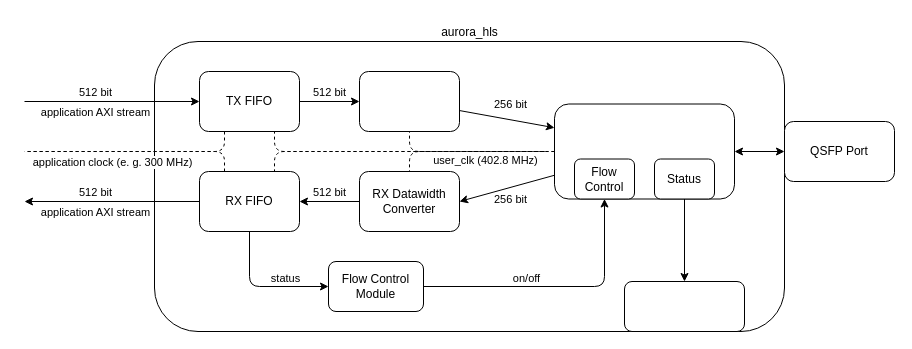
Image size: 912x349. Some labels were removed from this diagram. Each missing label, with the box of its shape:
Aurora Core: (554, 103, 734, 199)
AXI Control Register: (624, 280, 744, 332)
TX Datawidth Converter: (358, 70, 460, 132)
